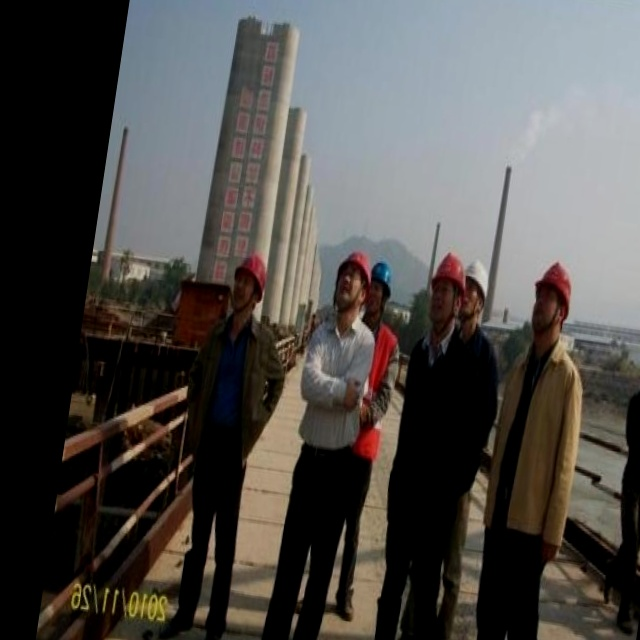Con_Casco: (529, 258, 574, 342), (421, 256, 466, 332)
Sin_Chaleco: (294, 318, 373, 447)
